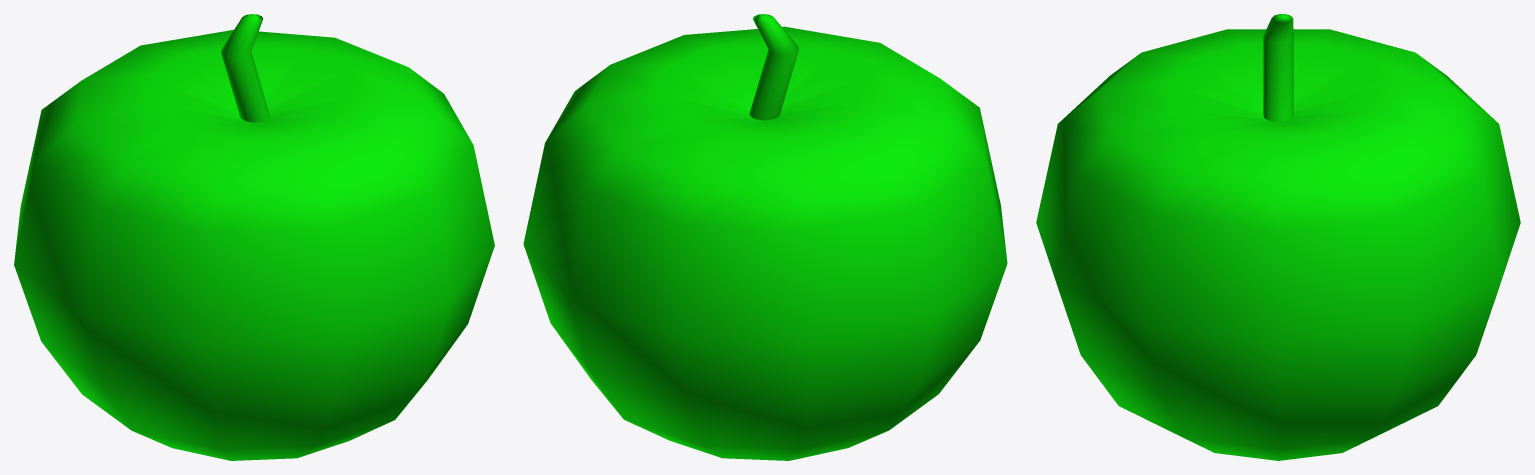
The model's file is Fruit03.fbx.
3 views of the same model, side by side, from view 1: azimuth 30°, elevation 25°; view 2: azimuth 150°, elevation 25°; view 3: azimuth 270°, elevation 25° (orthographic).
Parts seen in each view (by area): view 1: pCylinder12; view 2: pCylinder12; view 3: pCylinder12.
Boxes of the visible parts, x1=… form: pCylinder12: x1=14, y1=14, x2=494, y2=460; pCylinder12: x1=523, y1=14, x2=1007, y2=460; pCylinder12: x1=1036, y1=14, x2=1520, y2=460.
Bounding box in the file's own units: 0.17 × 0.1603 × 0.1717.
